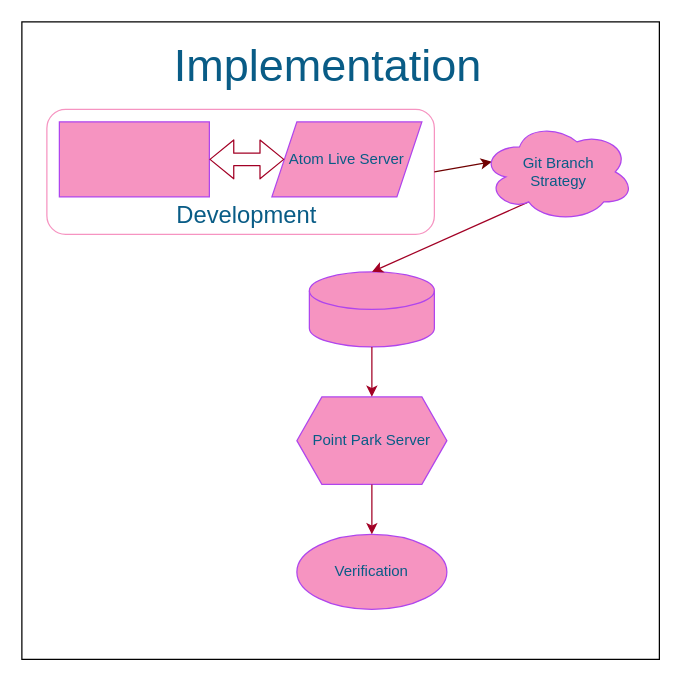
This 681x681 diagram has some shape labels left out. The centre of each missing label's shape, as x and y in pixels:
FileZilla: the point at 371,309
Local Environment: the point at 133,159
